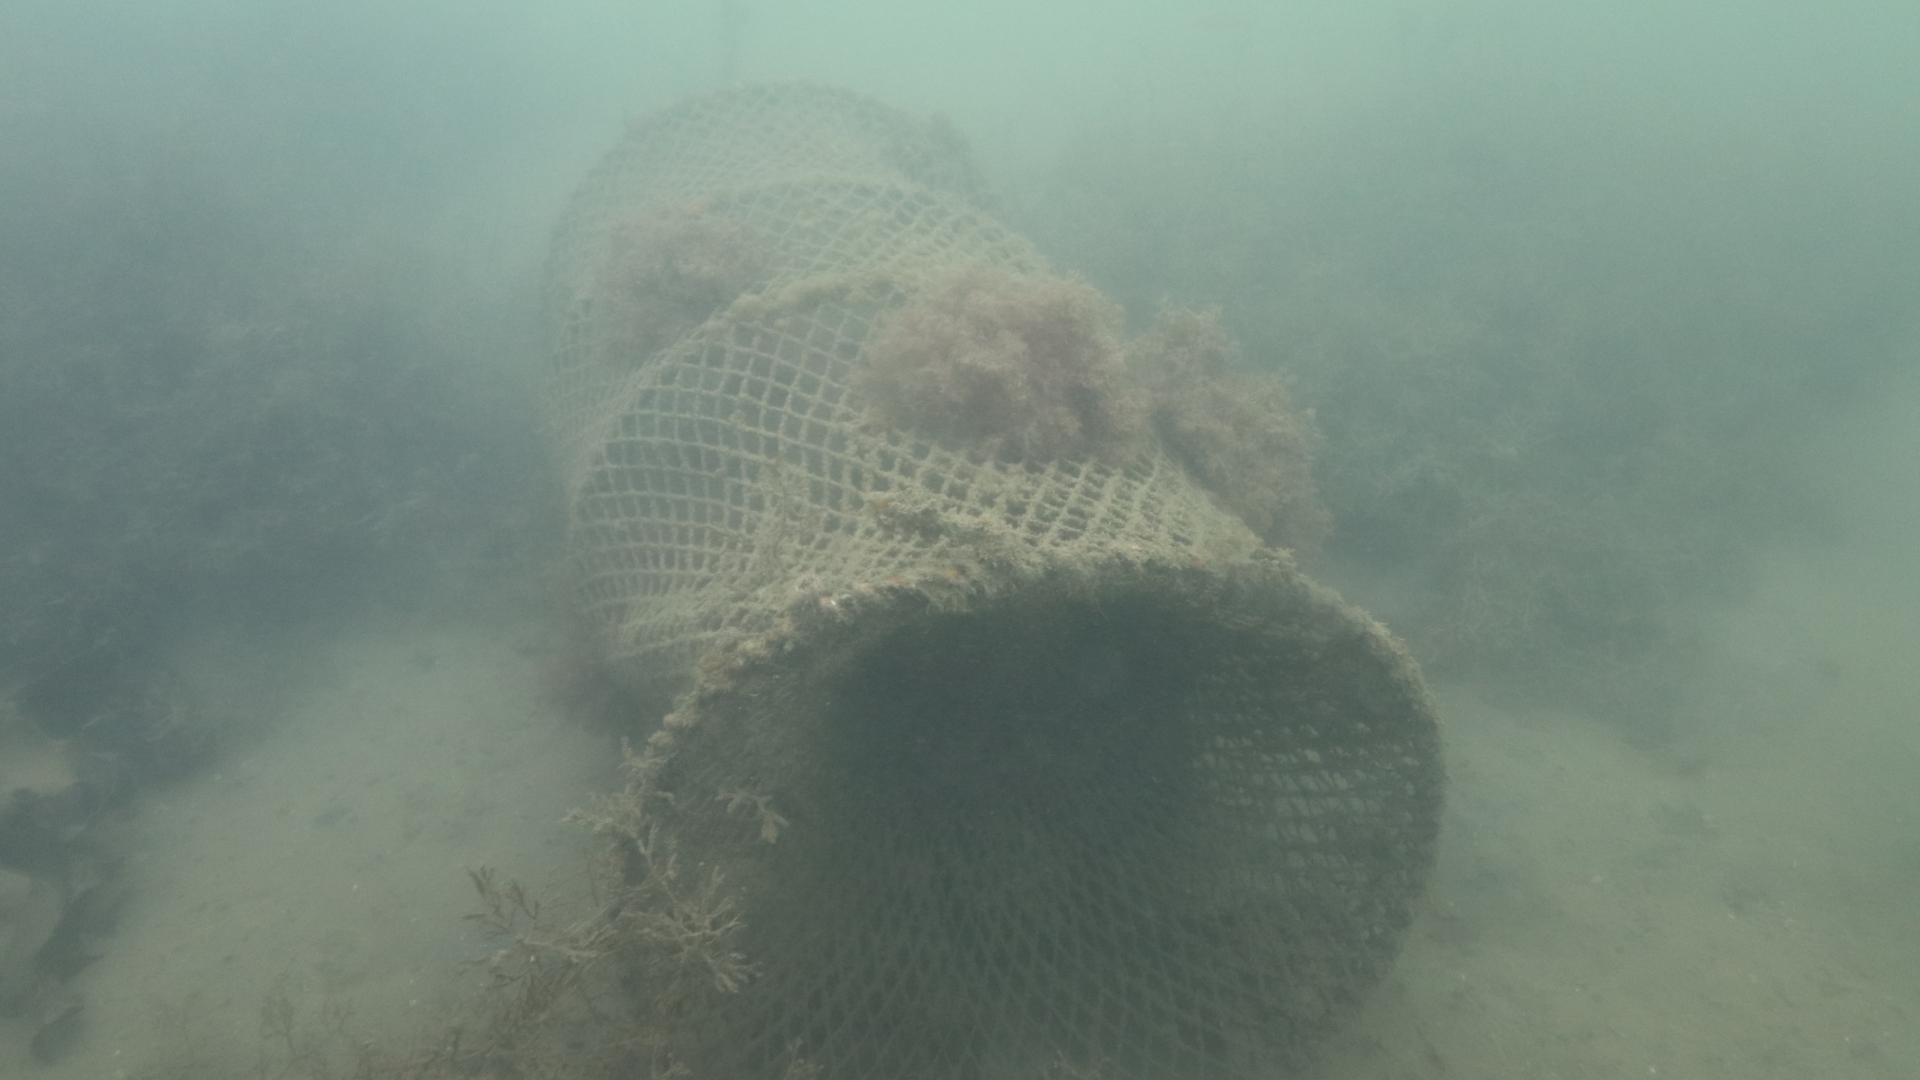spring fish trap: (527, 76, 1449, 1080)
